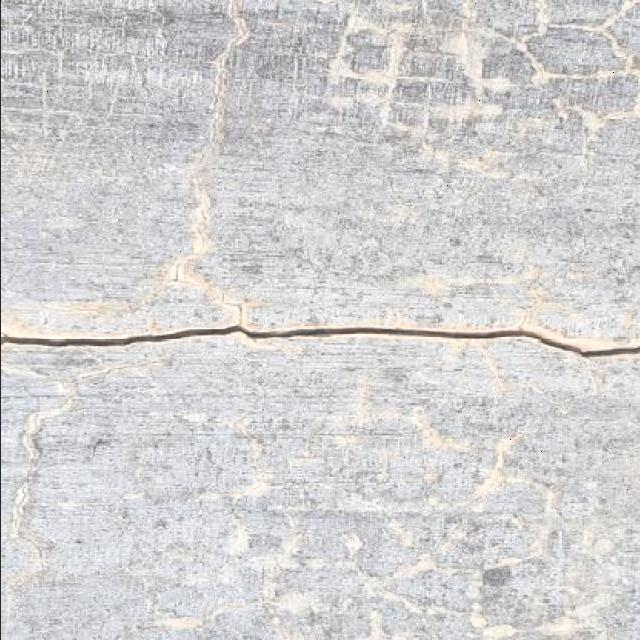crack: (0, 312, 639, 359)
